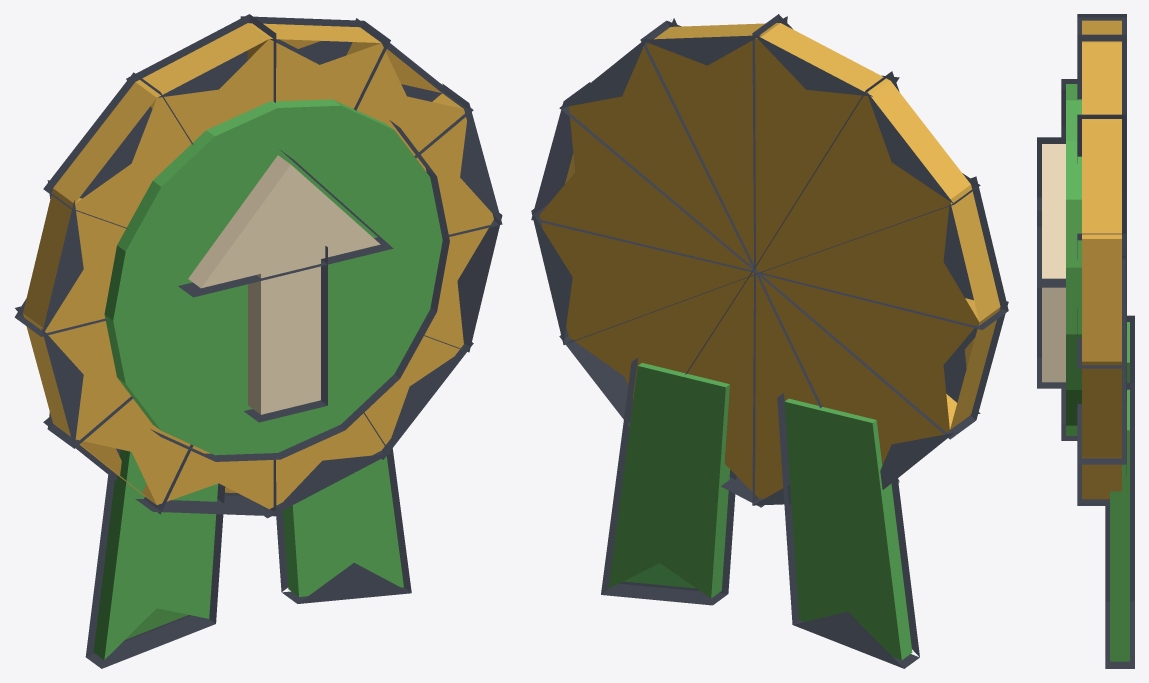
Rendered from badge_most_improved.glb.
3 renders of one model, left to right at view 1: azimuth 30°, elevation 25°; view 2: azimuth 150°, elevation 25°; view 3: azimuth 270°, elevation 25°, orthographic. The views are drawn at different scales.
Parts seen in each view (by area): view 1: badge, ink_outline (×2), ribbon; view 2: badge, ribbon, ink_outline (×2); view 3: badge, ink_outline (×2), ribbon.
Part boxes in pixels (left/top/right/bottom): badge: left=23, top=23, right=493, bottom=509; ink_outline (×2): left=14, top=14, right=502, bottom=668; ribbon: left=93, top=449, right=403, bottom=659; badge: left=539, top=23, right=1000, bottom=498; ribbon: left=608, top=363, right=912, bottom=660; ink_outline (×2): left=531, top=14, right=1008, bottom=668; badge: left=1042, top=20, right=1121, bottom=499; ink_outline (×2): left=1037, top=14, right=1134, bottom=668; ribbon: left=1110, top=322, right=1129, bottom=661.
Size of the model in its own units: 0.0616 by 0.0775 by 0.0122.
